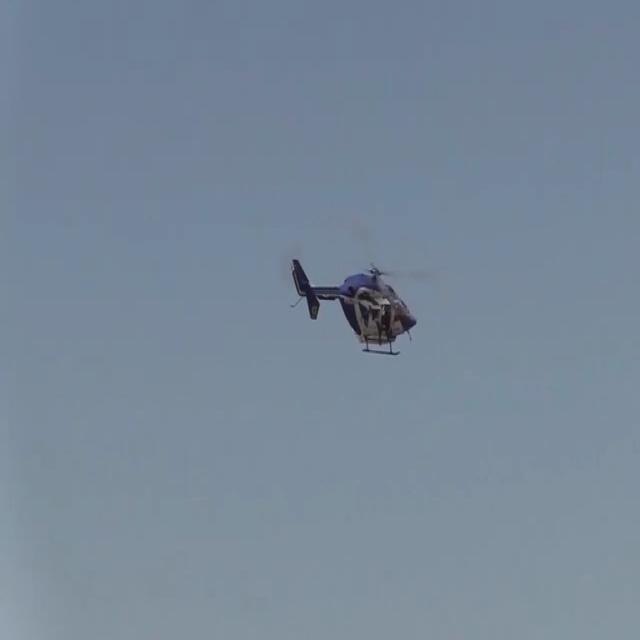Helicopter: (271, 210, 469, 384)
